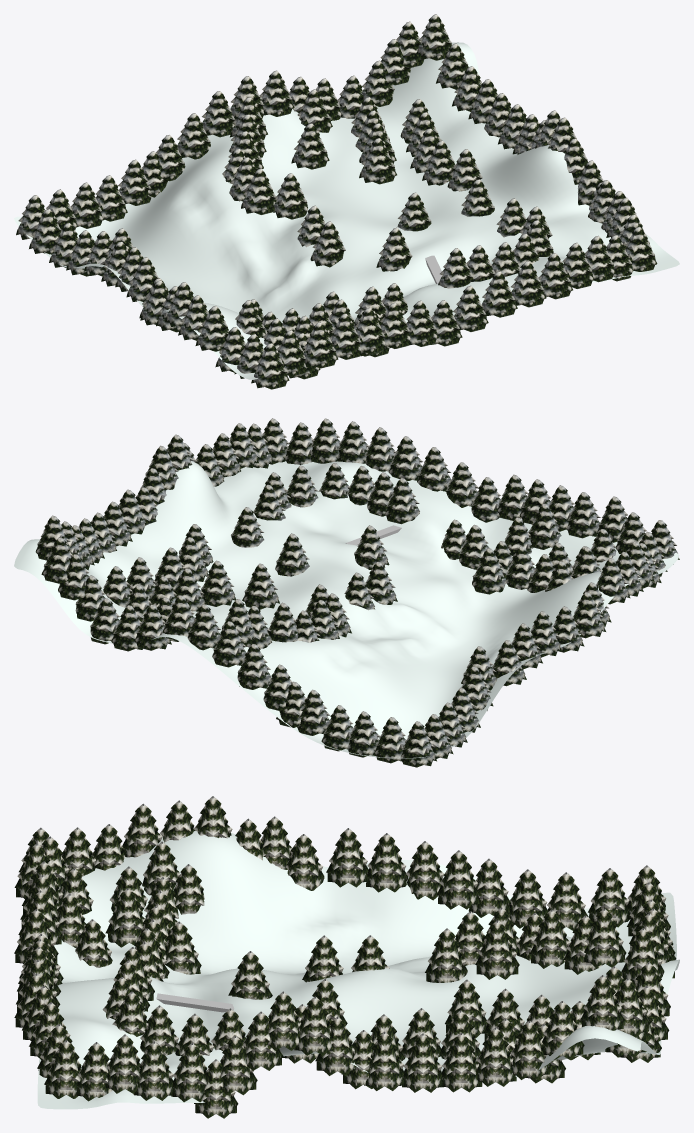
Rendered from forest_nav.obj.
3 views of the same model, one above another, from view 1: azimuth 30°, elevation 25°; view 2: azimuth 150°, elevation 25°; view 3: azimuth 270°, elevation 25° (orthographic). The views are drawn at different scales.
Parts seen in each view (by area): view 1: Plane; view 2: Plane; view 3: Plane.
Part boxes in pixels (x1,y1,x2,y2): Plane: (14,14,679,389); Plane: (14,418,679,767); Plane: (14,796,679,1118).
Size of the model in its own units: 101 by 32.2 by 102.
